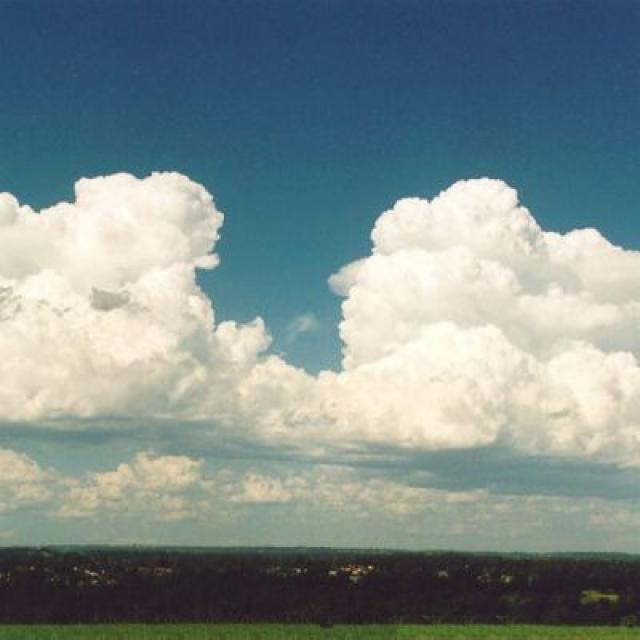Cb: (1, 159, 640, 477)
